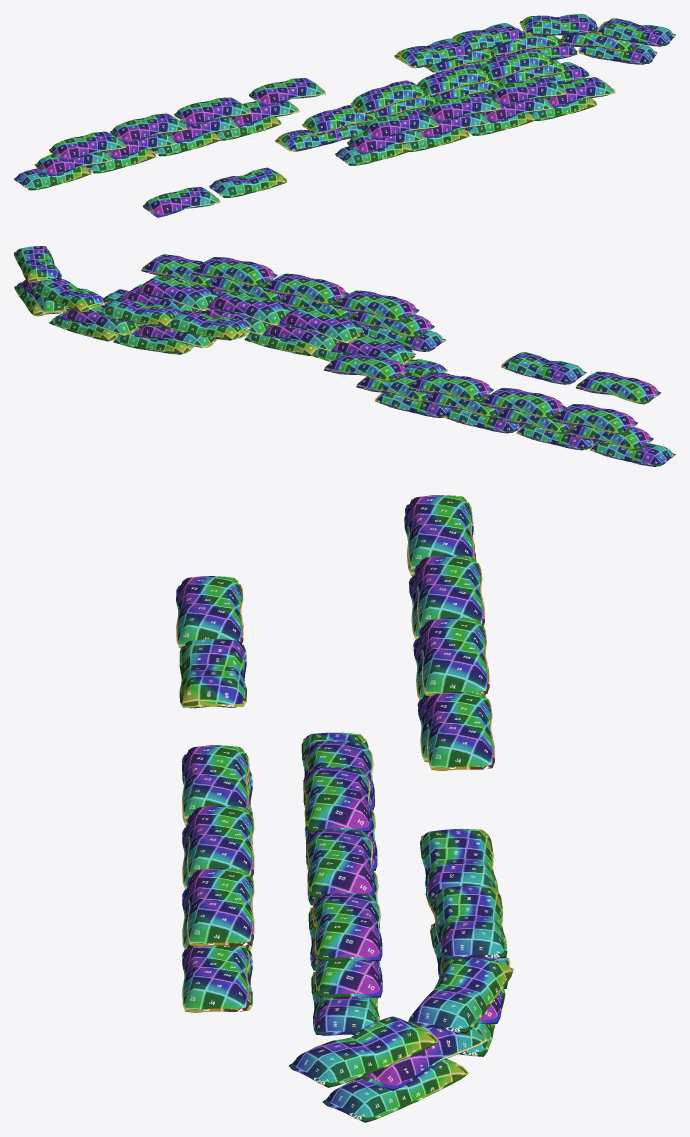
The model's file is SandBags.fbx.
3 renders of one model, top to bottom at view 1: azimuth 30°, elevation 25°; view 2: azimuth 150°, elevation 25°; view 3: azimuth 270°, elevation 25°, orthographic. The views are drawn at different scales.
Visible parts, largest first — view 1: SandBag11 (×3), SandBag10 (×3), SandBag9 (×3), SandBag12 (×3), SandBag (×3), SandBag7 (×3), SandBag6 (×3), SandBag4 (×2), SandBag18, SandBag17, SandBag5, SandBag33 (+13 smaller); view 2: SandBag11 (×3), SandBag10 (×3), SandBag9 (×3), SandBag12 (×3), SandBag (×3), SandBag7 (×3), SandBag6 (×3), SandBag2 (×2), SandBag24, SandBag5, SandBag33, SandBag34 (+14 smaller); view 3: SandBag11 (×3), SandBag10 (×3), SandBag9 (×3), SandBag12 (×2), SandBag17, SandBag34, SandBag18, SandBag23, SandBag33, SandBag24, SandBag5, SandBag13 (+3 smaller).
Part boxes in pixels (x1,y1,x2,y2): SandBag11 (×3): [174, 78, 566, 125]; SandBag10 (×3): [110, 64, 501, 143]; SandBag9 (×3): [49, 48, 554, 161]; SandBag12 (×3): [230, 77, 615, 135]; SandBag (×3): [35, 56, 567, 176]; SandBag7 (×3): [167, 95, 553, 143]; SandBag6 (×3): [104, 80, 501, 159]; SandBag4 (×2): [14, 62, 589, 190]; SandBag18: [519, 14, 598, 35]; SandBag17: [597, 18, 675, 46]; SandBag5: [143, 187, 220, 217]; SandBag33: [209, 167, 287, 197]; SandBag11 (×3): [192, 257, 493, 401]; SandBag10 (×3): [207, 273, 565, 418]; SandBag9 (×3): [135, 276, 637, 434]; SandBag12 (×3): [141, 254, 432, 402]; SandBag (×3): [122, 284, 653, 450]; SandBag7 (×3): [208, 278, 503, 417]; SandBag6 (×3): [197, 295, 575, 433]; SandBag2 (×2): [244, 332, 523, 433]; SandBag24: [164, 310, 250, 340]; SandBag5: [576, 371, 660, 404]; SandBag33: [501, 352, 586, 384]; SandBag34: [324, 353, 409, 382]; SandBag11 (×3): [187, 618, 489, 946]; SandBag10 (×3): [187, 555, 484, 897]; SandBag9 (×3): [182, 495, 475, 961]; SandBag12 (×2): [182, 740, 374, 1012]; SandBag17: [289, 1016, 438, 1087]; SandBag34: [424, 692, 494, 770]; SandBag18: [408, 956, 513, 1033]; SandBag23: [434, 885, 507, 959]; SandBag33: [179, 639, 246, 708]; SandBag24: [420, 828, 498, 902]; SandBag5: [176, 576, 243, 648]; SandBag13: [322, 1059, 468, 1122].
Bounding box in the file's own units: 56.42 × 3.56 × 13.14.
Materials: 1 (1 with a texture image).
